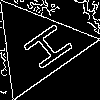H: (12, 21, 75, 78)
